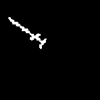double_crochet: (9, 17, 45, 48)
